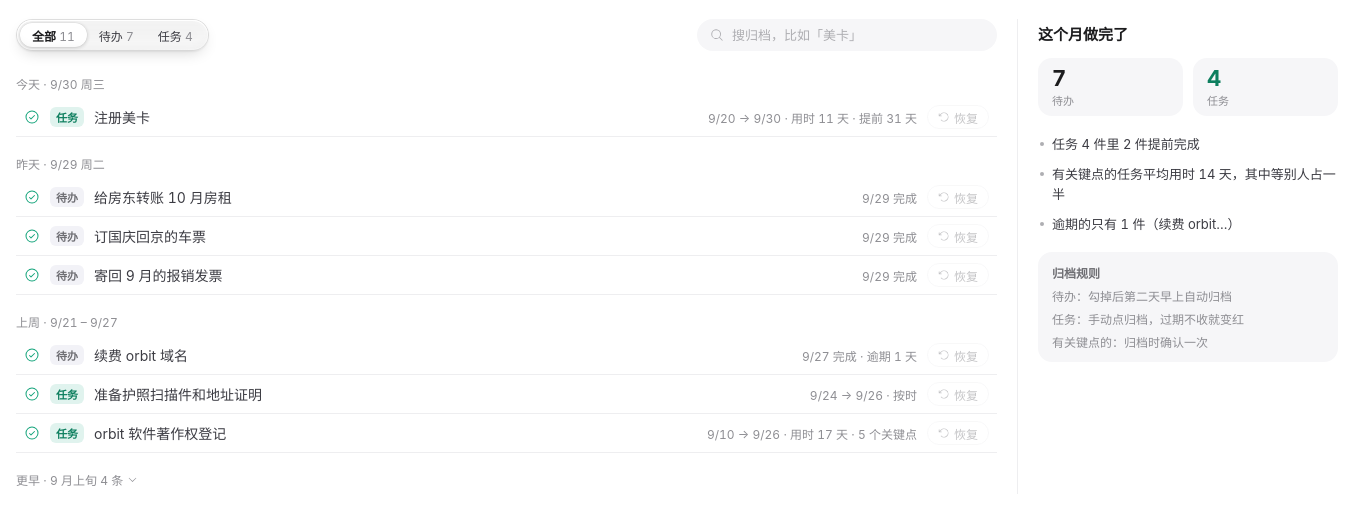
Scenario: ArchivePage (ui-spec §14) › search 「ITIN」 finds 注册美卡 through its summary
In the field labelled "搜归档": (858, 35) [732,27,984,43], type "itin"
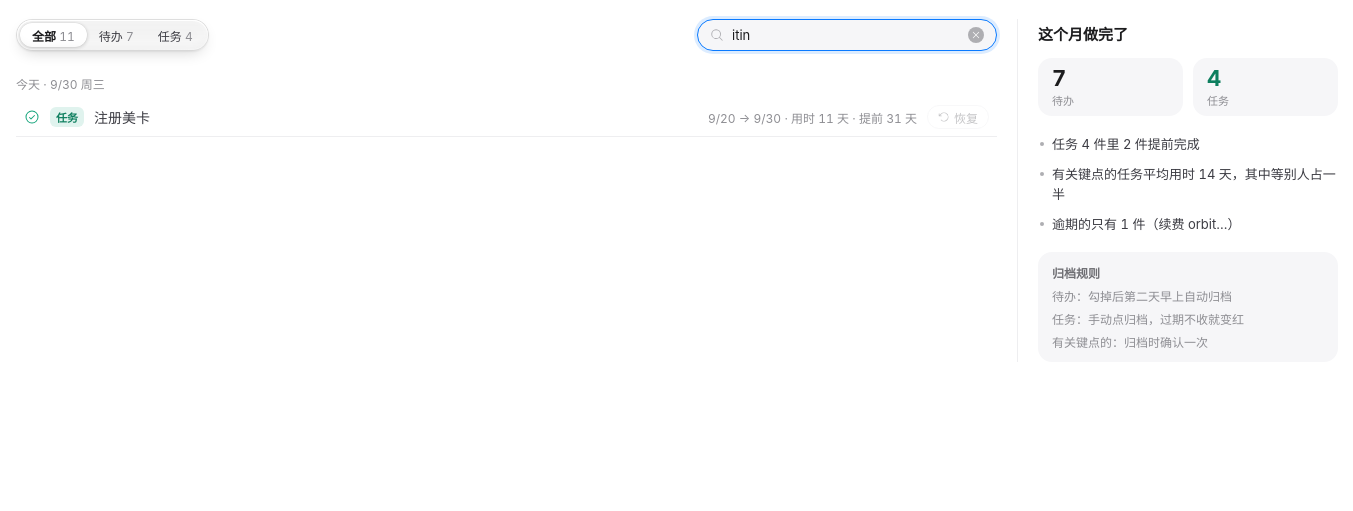
Click the button "任务 注册美卡 9/20 → 9/30 · 用时 11 天 · 提前 31 天": (67, 117) [16,98,917,136]
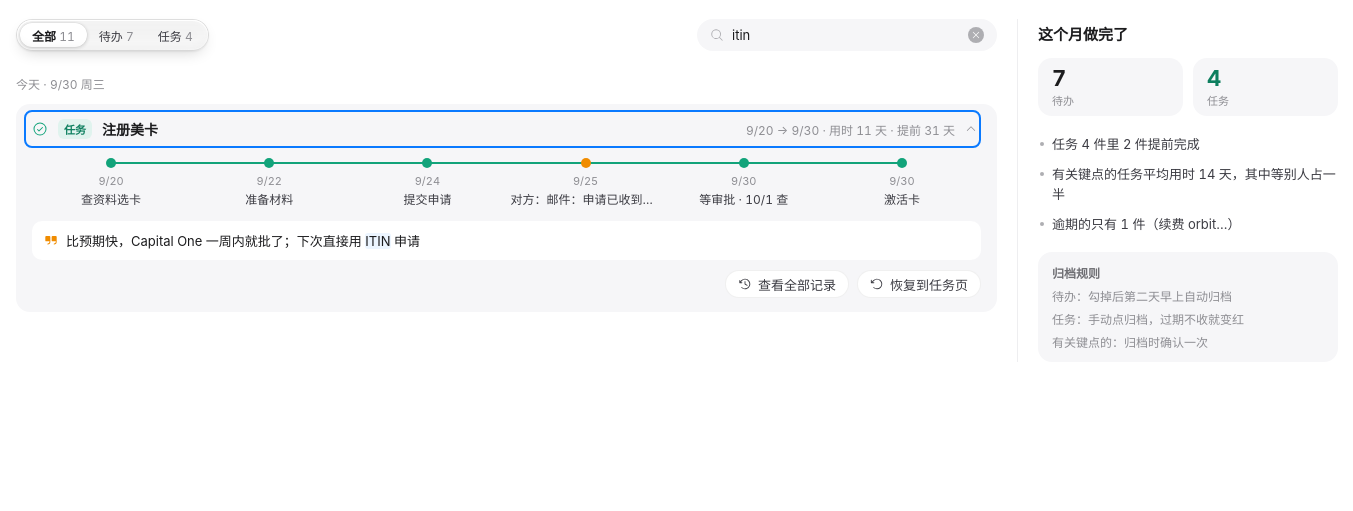
Now the text "ITIN" is shown, box [365,233,390,249]
